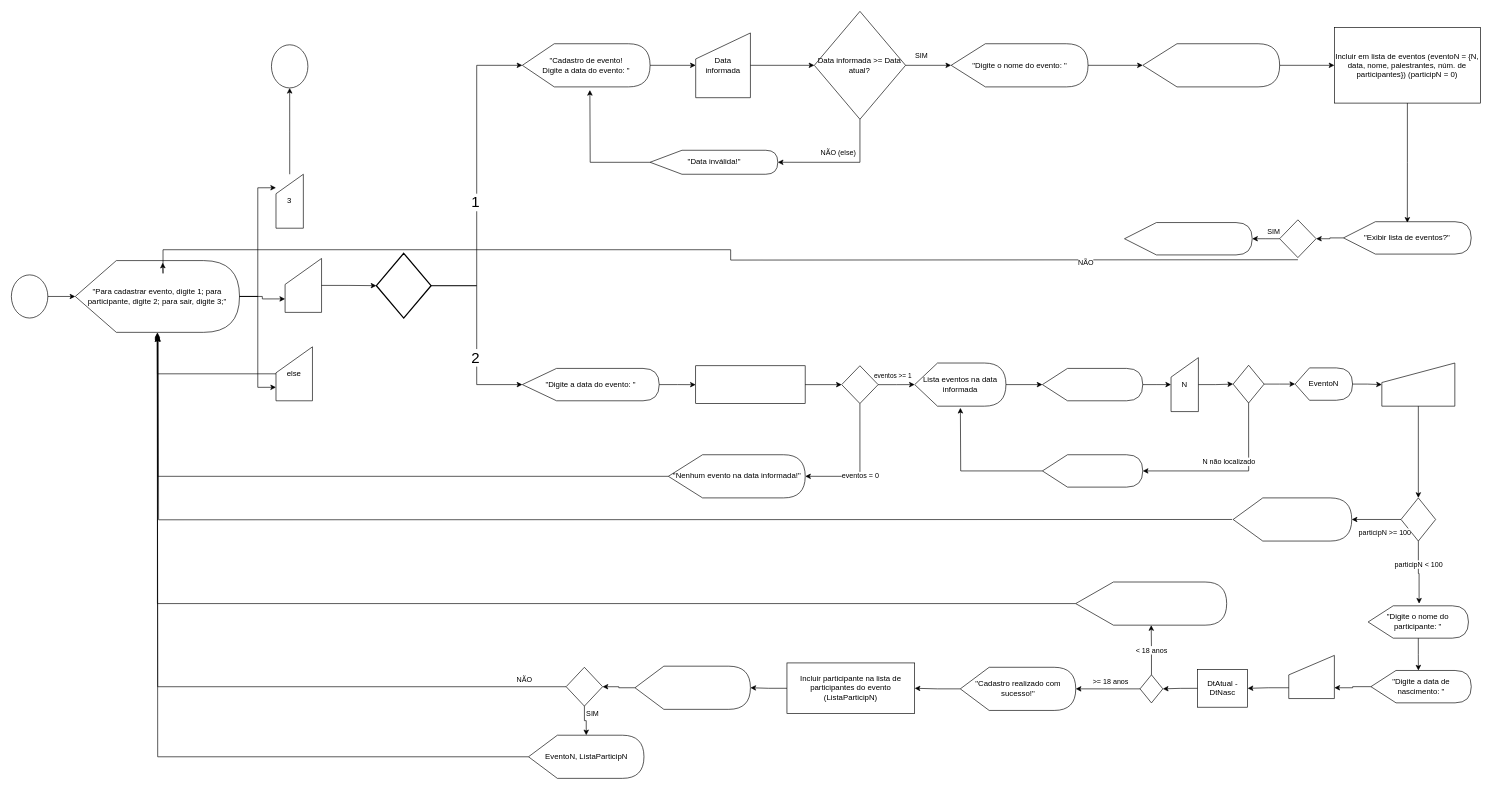
The diagram is 1492 pixels wide and 790 high, and some of its shapes have lost their labels. Here are the shapes that lost their labels. From the top down, the box of each, then its label:
(1142, 43, 1280, 87): "Digite o nome dos palestrantes: "
(1124, 222, 1252, 255): Lista de eventos (Evento1 a EventoN)
(284, 258, 322, 312): 1 ou 2
(695, 365, 805, 404): Selecionar eventos com a data informada
(1042, 368, 1143, 401): "Digite o código (N) do evento: "
(1381, 362, 1455, 406): participN
(1042, 454, 1143, 487): "Código não localizado!"
(1232, 497, 1352, 541): "Limite de participantes atingido para o evento!"
(1075, 581, 1227, 625): "Cadastro não permitido! O participante deve ter mais de 18 anos!"
(634, 666, 750, 709): "Ver lista de participantes?"
(1288, 655, 1334, 699): DtNasc
